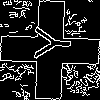Y: (25, 25, 72, 60)
